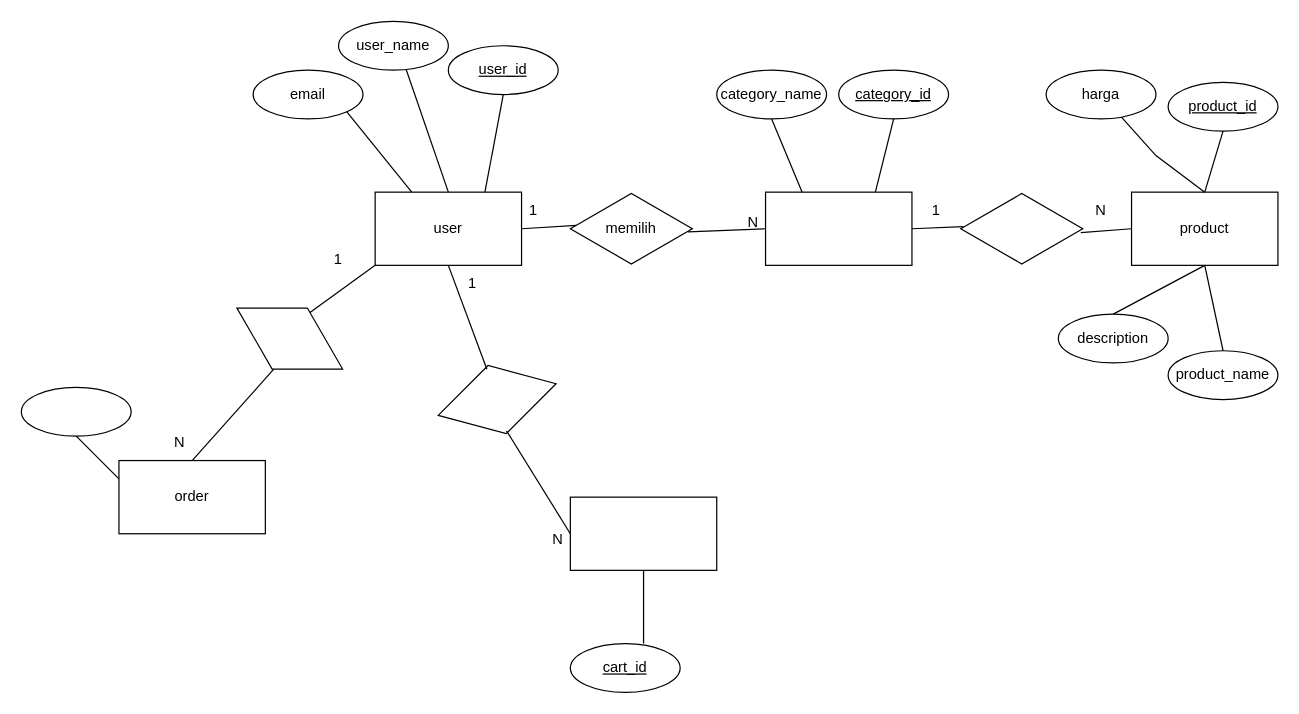
Image size: 1299x714. Some labels were removed from this diagram. The centre of each missing label's shape, as x and y in pixels:
"cart" goes at point 643,533.
"category" goes at point 838,228.
"melakukan" goes at point 289,338.
"memfilter" goes at point 1021,228.
"memiliki" goes at point 496,399.
"order_id" goes at point 75,411.
